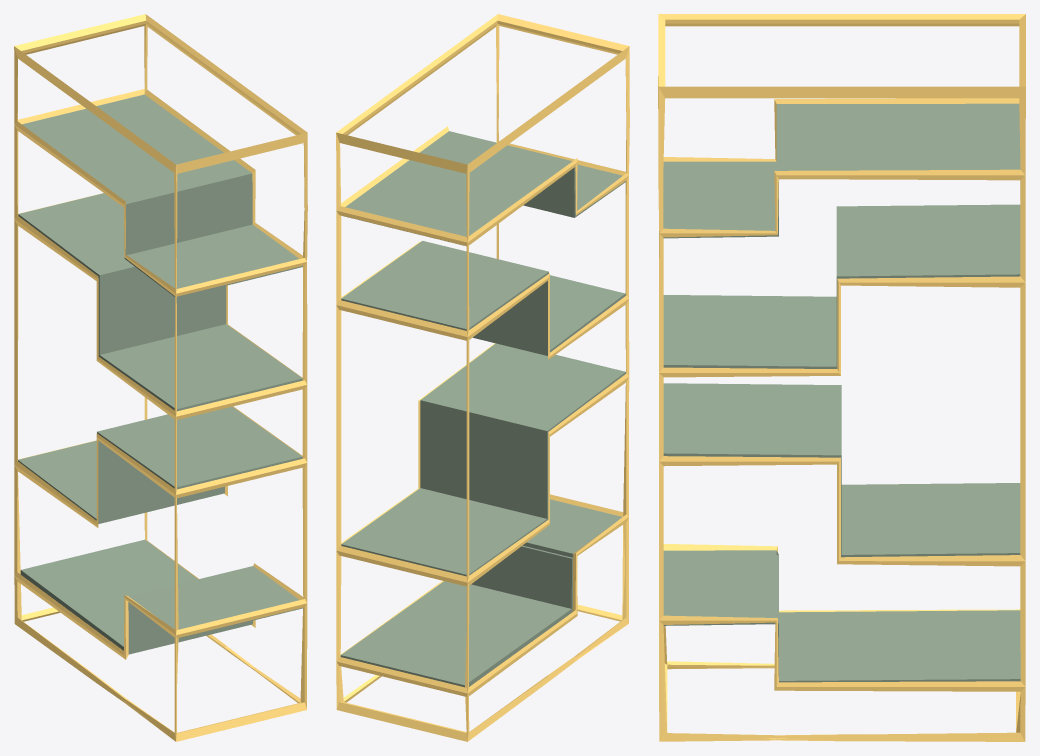
The model's file is BookcaseWShelves.fbx.
3 renders of one model, left to right at view 1: azimuth 30°, elevation 25°; view 2: azimuth 150°, elevation 25°; view 3: azimuth 270°, elevation 25°, orthographic. The views are drawn at different scales.
Parts seen in each view (by area): view 1: Shelves, Case; view 2: Shelves, Case; view 3: Shelves, Case.
Part boxes in pixels (x1,y1,x2,y2): Shelves: [18, 94, 302, 654]; Case: [14, 14, 307, 741]; Shelves: [340, 131, 625, 687]; Case: [336, 14, 629, 741]; Shelves: [663, 103, 1020, 682]; Case: [658, 14, 1025, 741].
Size of the model in its own units: 132 by 553 by 281.
